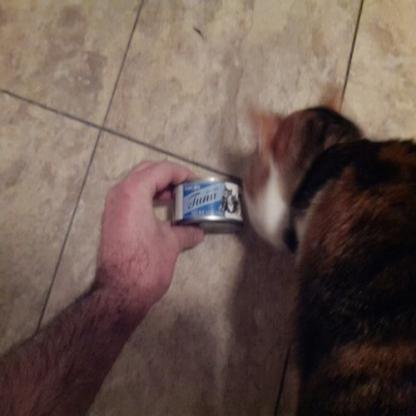Target: (228, 90, 416, 416)
